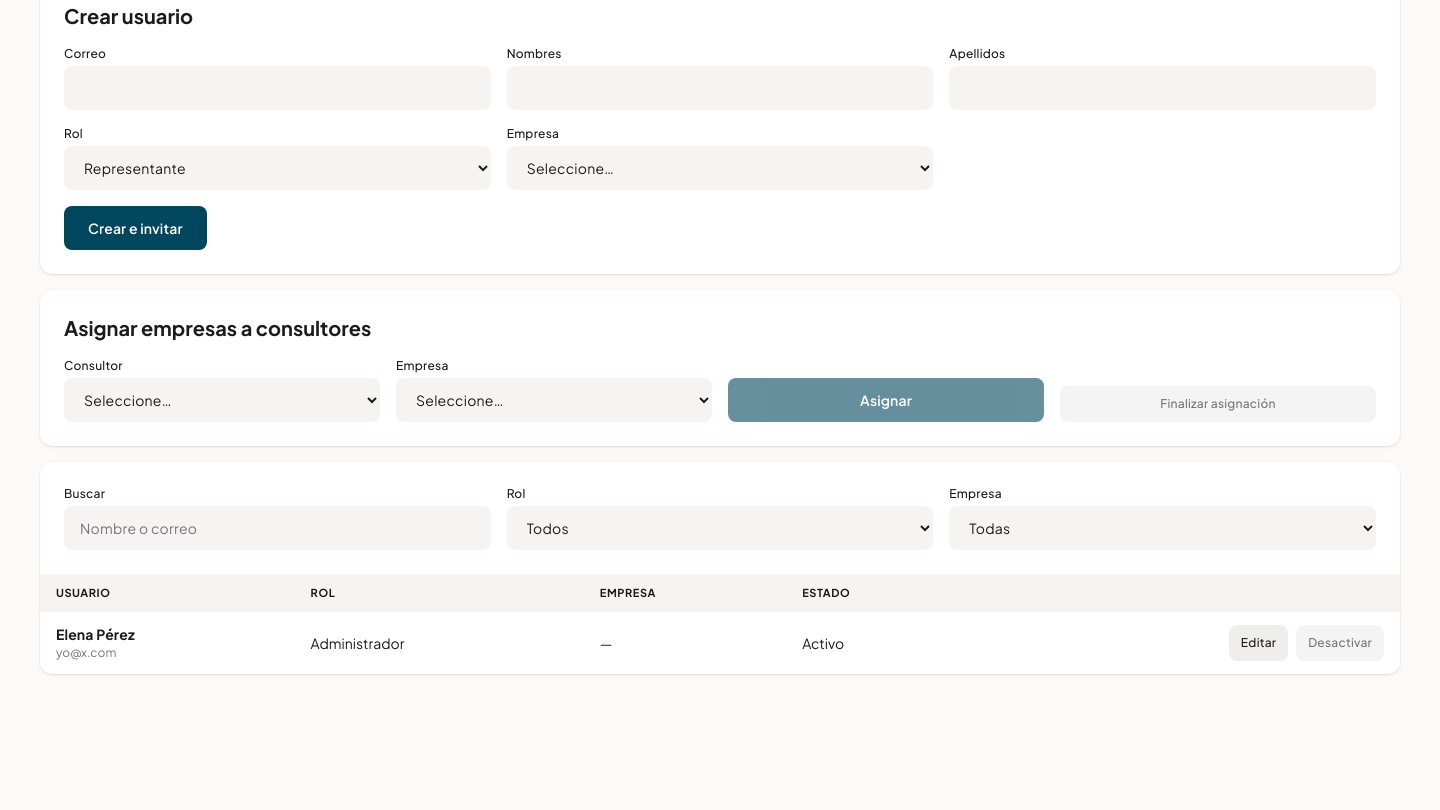
Test: Editar el rol de un usuario › no permite cambiar el propio rol
This screenshot has width=1440, height=810.
(page scrolled)
Click the button "Editar". click: (1259, 643)
box: top-left (1229, 625), bottom-right (1288, 661)
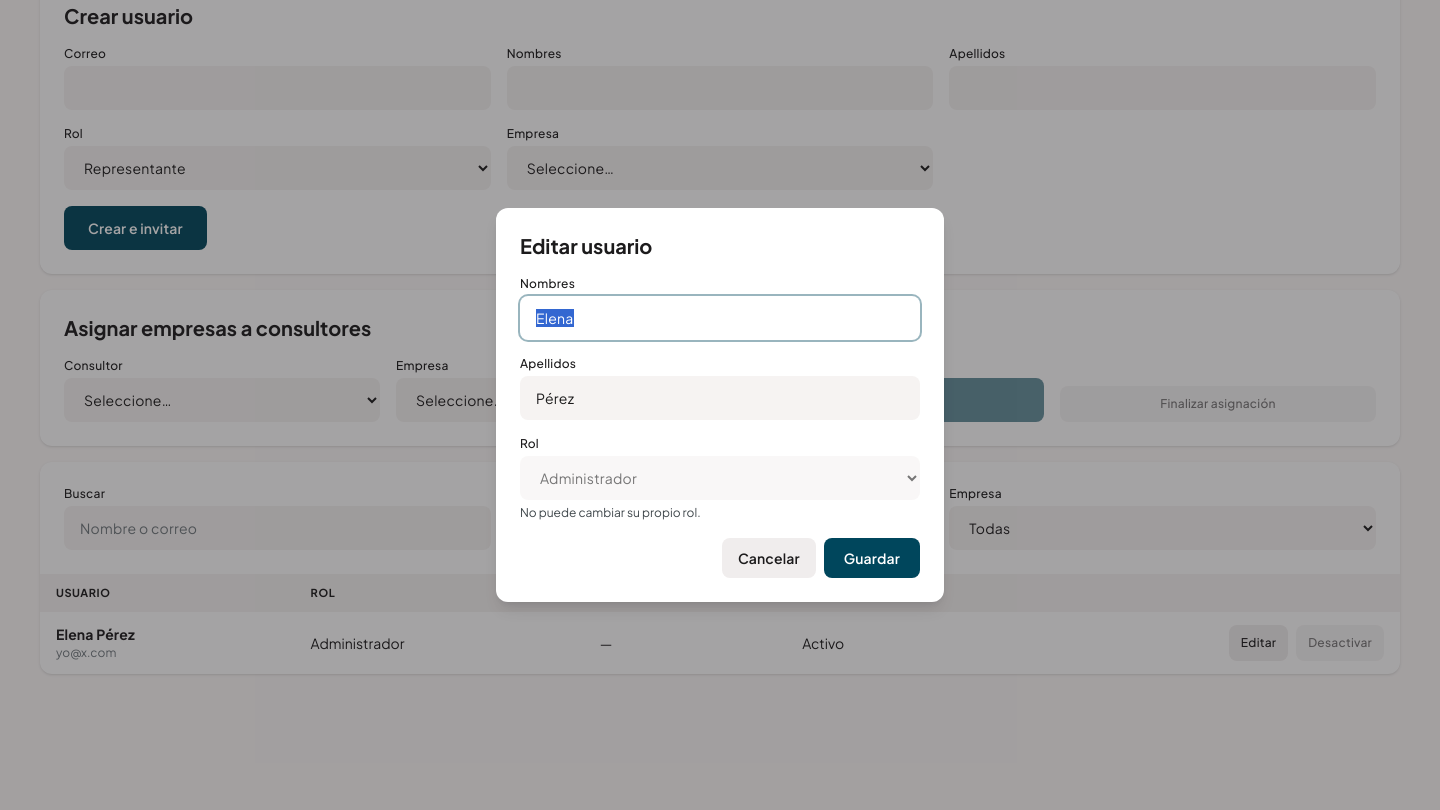
Check: the dropdown labelled "Rol" is disabled, box top-left (520, 456), bottom-right (920, 500)
Check: the text "No puede cambiar su propio rol." is shown, box top-left (520, 505), bottom-right (701, 520)
